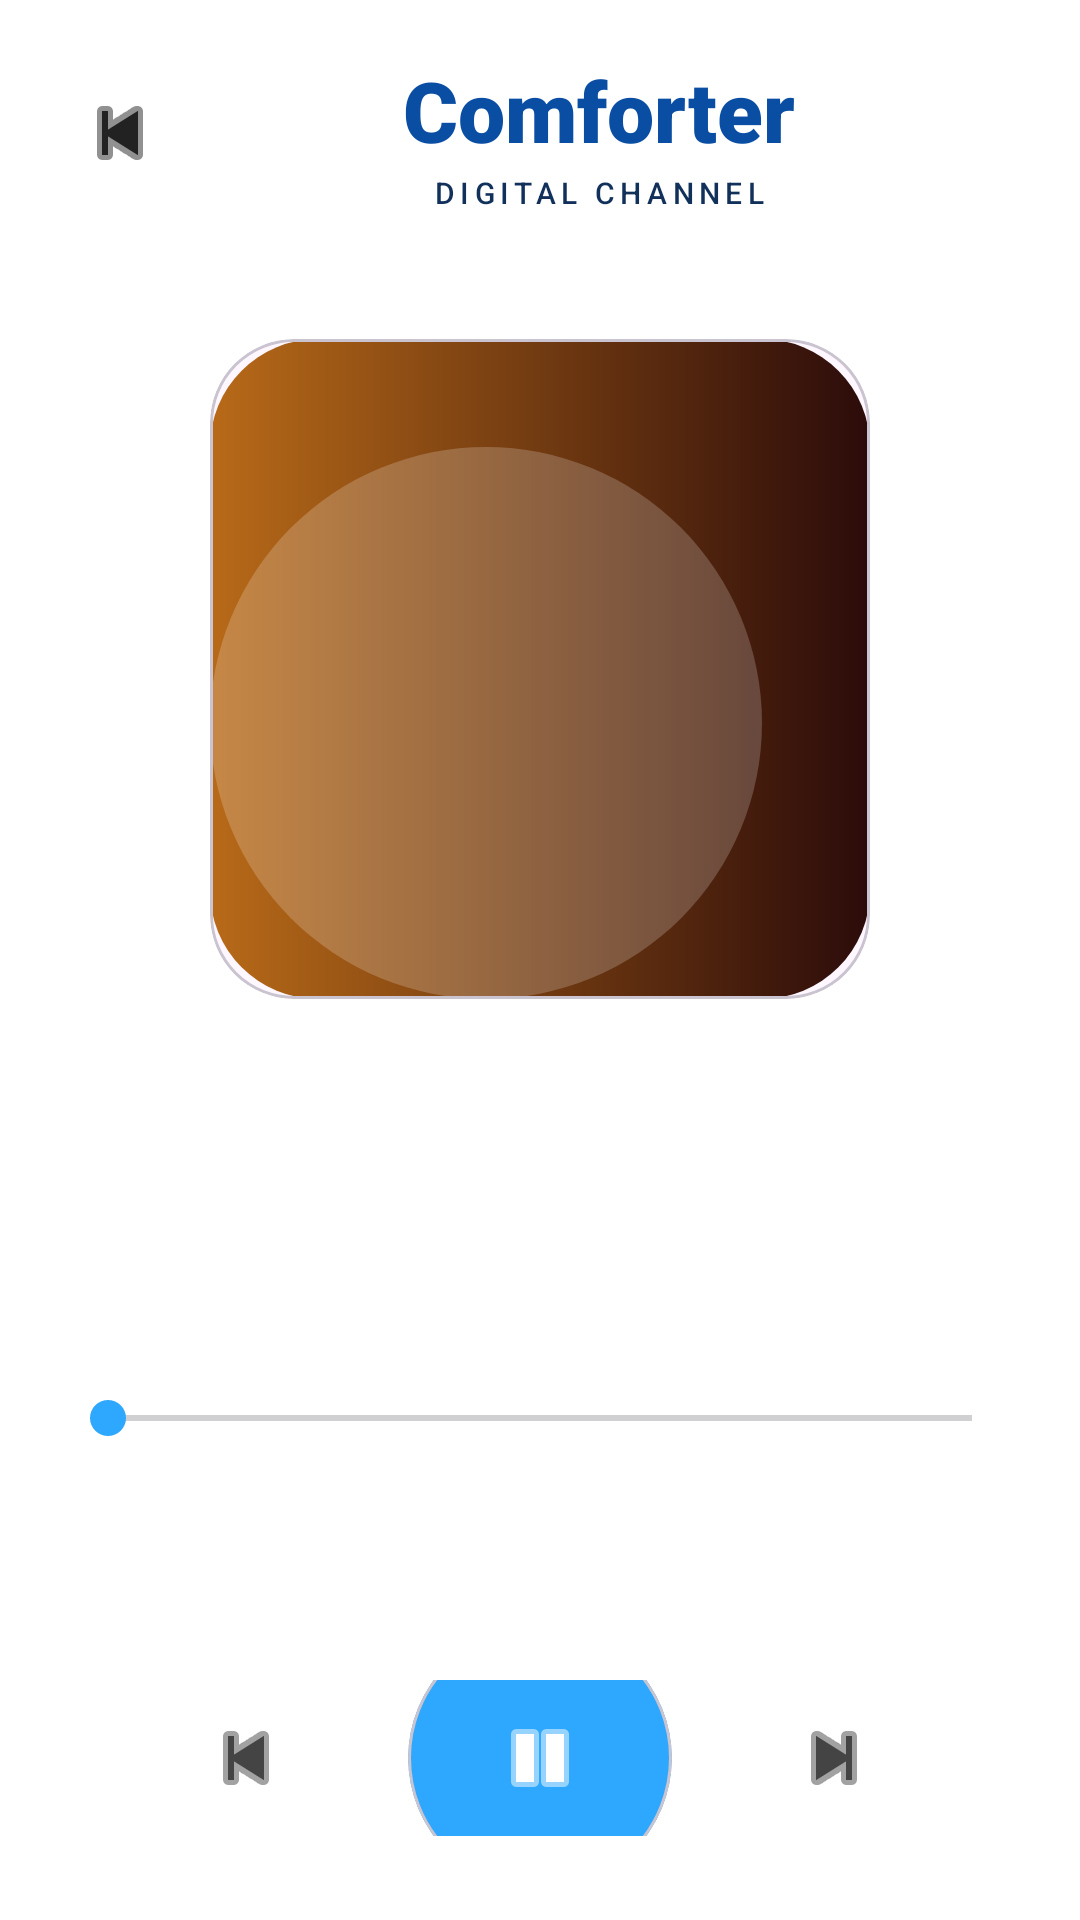

Icons on this 1080 x 1920 Android screen, each with the point to tap as point (x, y):
Back: point (120, 133)
Previous: point (246, 1758)
